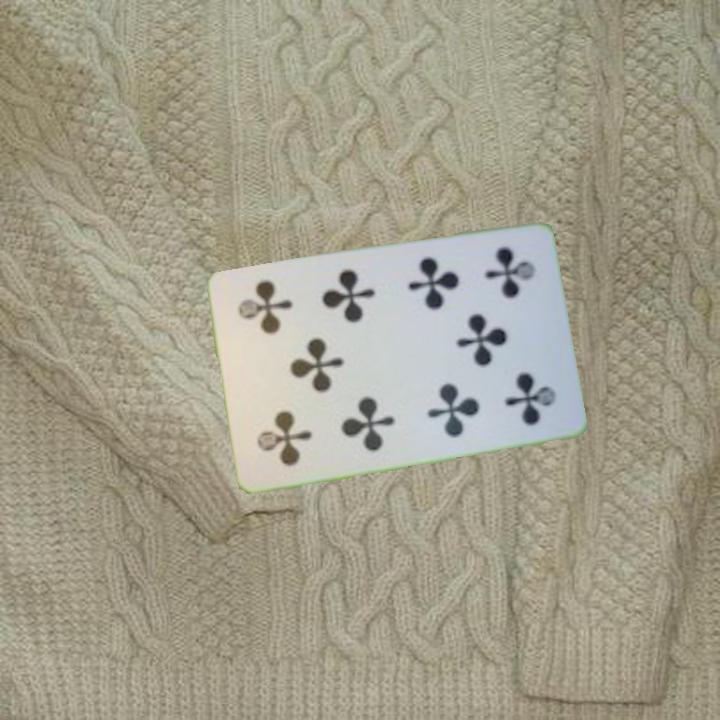c_10.png: (236, 365, 337, 478), (452, 232, 553, 344)
